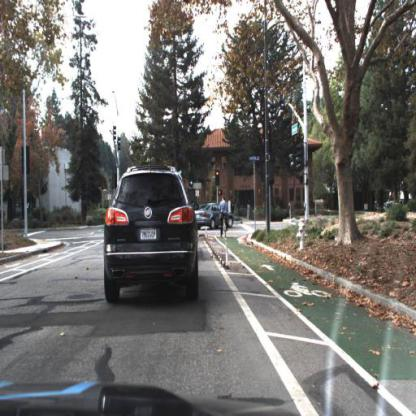biker: (217, 190, 229, 238)
car: (100, 157, 200, 308), (192, 200, 237, 233)
trafficLight-Green: (190, 170, 195, 189), (179, 161, 184, 177)
trafficLight-Red: (265, 127, 272, 152), (216, 171, 221, 187)
